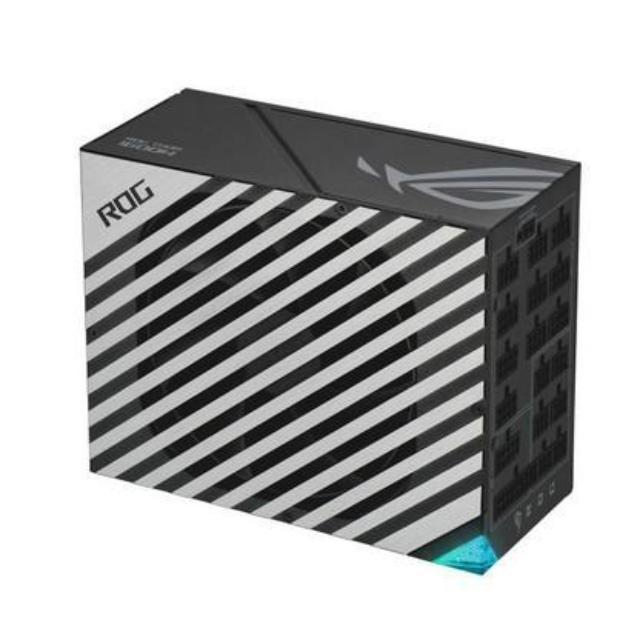PSU: (75, 83, 588, 585)
